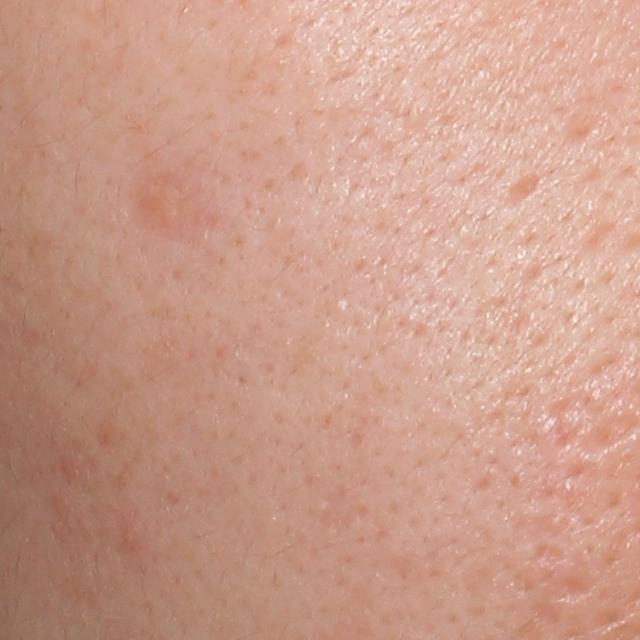atrophic_scar: (534, 568, 595, 626), (314, 483, 368, 530), (541, 394, 580, 449), (499, 170, 543, 213), (580, 213, 618, 253), (528, 538, 569, 566), (560, 117, 596, 148)
comedo: (330, 294, 351, 315)
